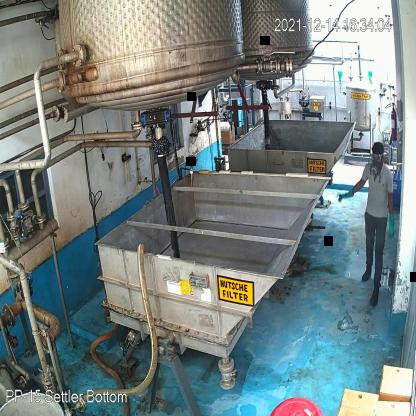goggles: (368, 152, 384, 163)
mask: (368, 160, 384, 176)
shoes: (368, 280, 382, 309), (361, 262, 373, 284)
